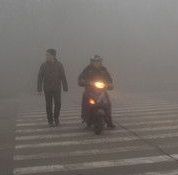person: (77, 53, 117, 135), (35, 48, 70, 128)
